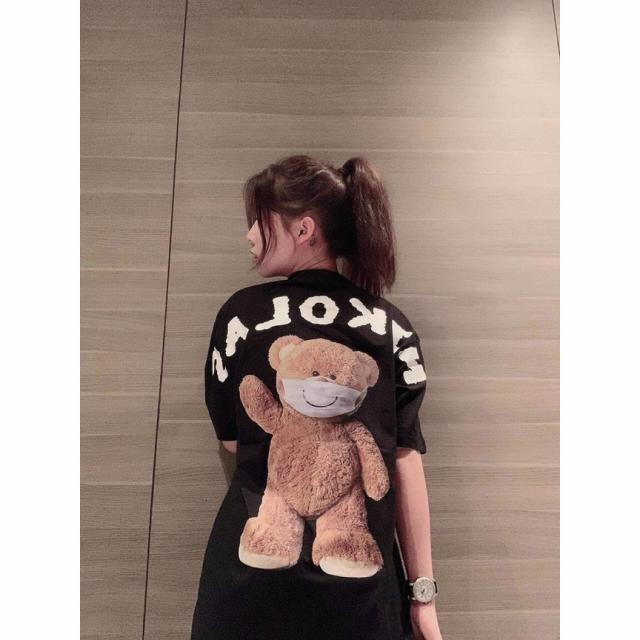Shirt: (190, 266, 440, 640)
